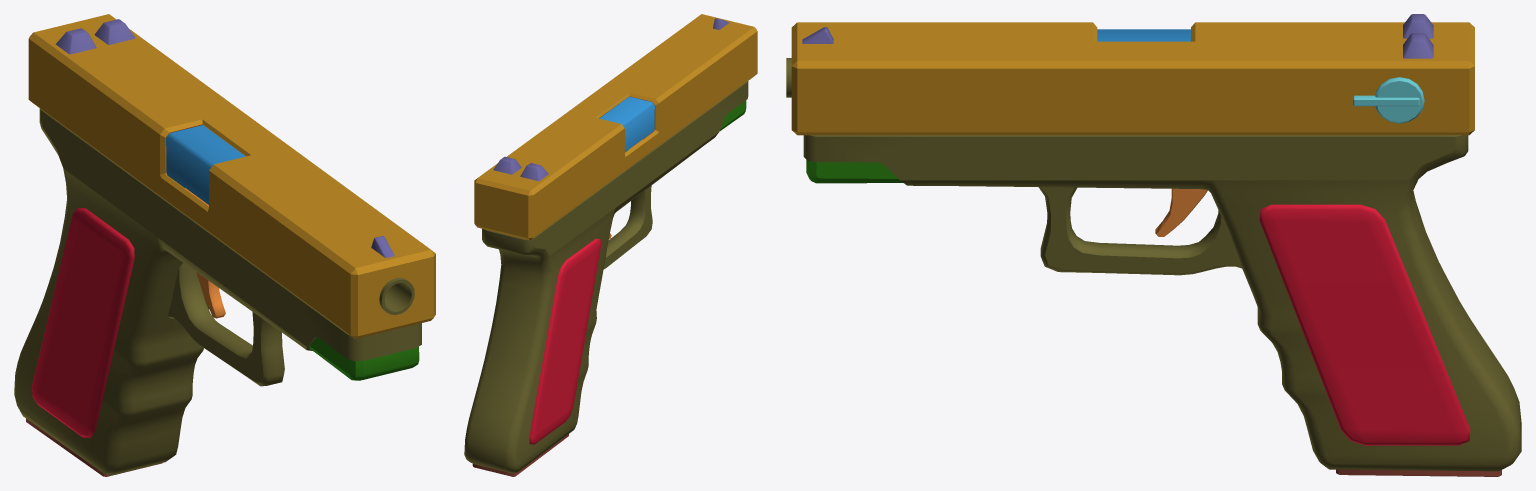
The model's file is pistolet.fbx.
3 views of the same model, side by side, from view 1: azimuth 30°, elevation 25°; view 2: azimuth 150°, elevation 25°; view 3: azimuth 270°, elevation 25° (orthographic). The views are drawn at different scales.
Parts seen in each view (by area): view 1: pistol_main, pistol_slide, pistol_trigger; view 2: pistol_main, pistol_slide, pistol_magazine; view 3: pistol_main, pistol_slide, pistol_trigger, pistol_magazine.
Boxes of the visible parts, x1,y1,x2,y2 form: pistol_main: (14,108,421,475); pistol_slide: (28,14,435,339); pistol_trigger: (196,272,225,318); pistol_main: (464,81,748,473); pistol_slide: (474,14,757,240); pistol_magazine: (472,434,568,476); pistol_main: (786,29,1521,471); pistol_slide: (791,14,1474,135); pistol_trigger: (1155,188,1207,236); pistol_magazine: (1336,469,1501,476).
Size of the model in its own units: 3.5 by 15.37 by 23.56.
